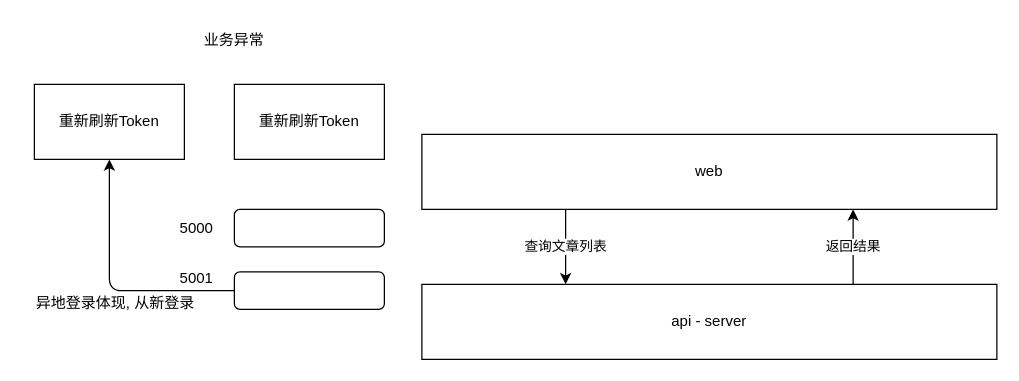
Some shapes in this 1019 by 381 pixel diagram are drawn without their labels. Each missing label, with the box of its shape:
1. Token 失效(其他地方登录): (233, 271, 384, 309)
1. Token 过期(2h): (233, 208, 384, 247)
